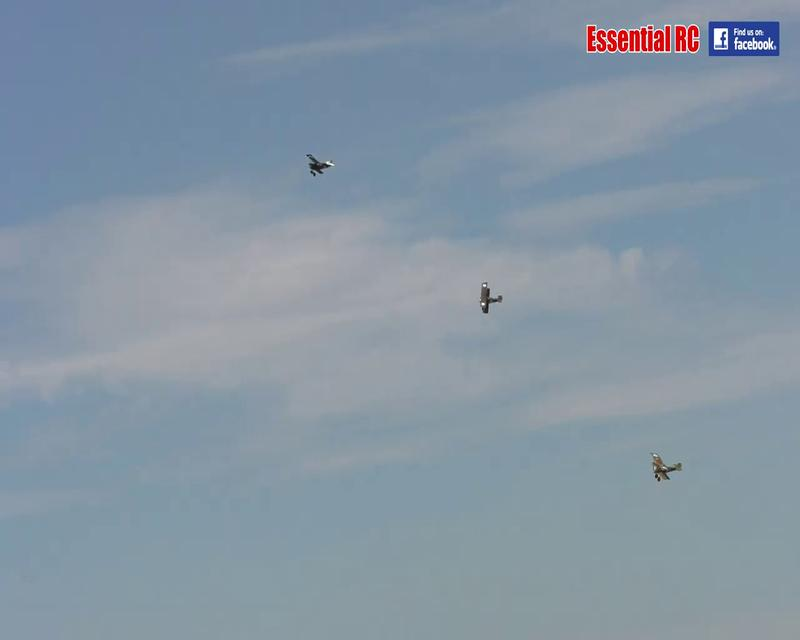UAV: (648, 450, 684, 484), (304, 150, 334, 178), (479, 282, 504, 314)
